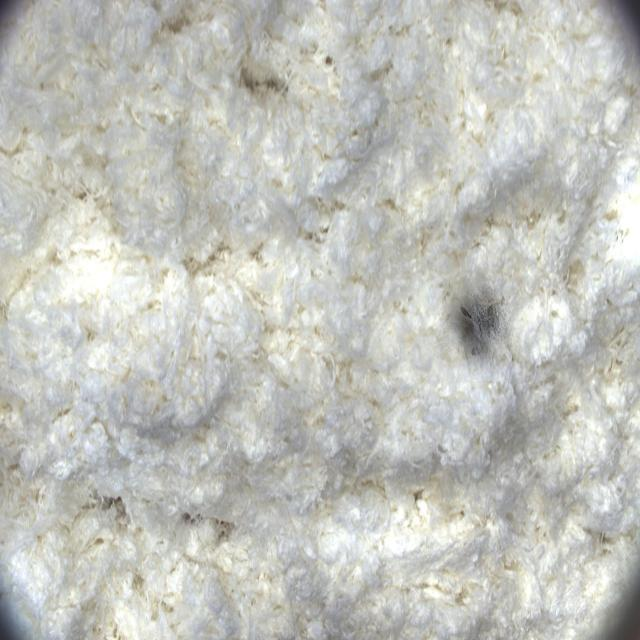dust: (396, 243, 540, 387)
